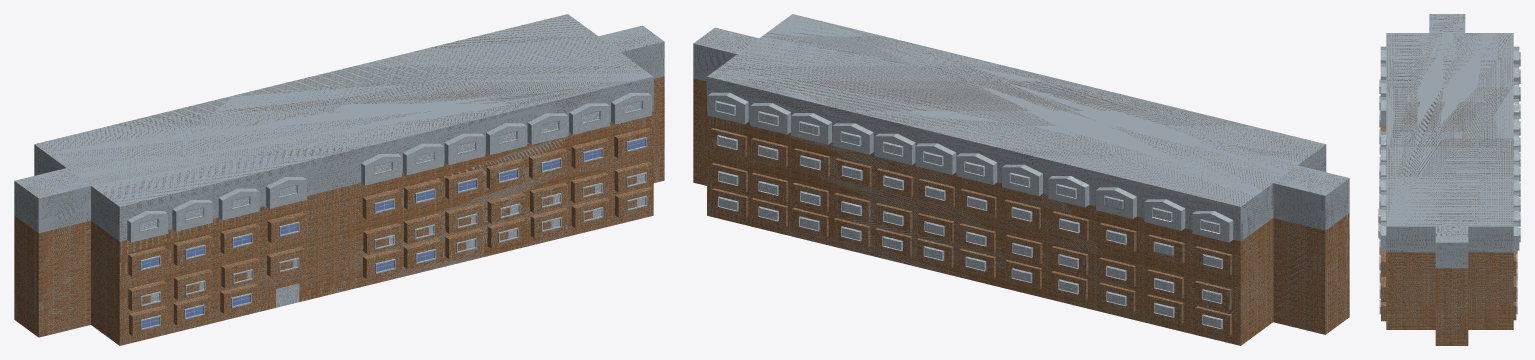
Rendered from Chapman(Textures).fbx.
The picture shows the model from 3 angles, left to right: view 1: azimuth 30°, elevation 25°; view 2: azimuth 150°, elevation 25°; view 3: azimuth 270°, elevation 25°; orthographic projection. The views are drawn at different scales.
Parts seen in each view (by area): view 1: Model; view 2: Model; view 3: Model.
Boxes of the visible parts, x1,y1,x2,y2 form: Model: (14, 14, 664, 345); Model: (693, 14, 1349, 345); Model: (1378, 14, 1520, 345).
Bounding box in the file's own units: 2276 × 480 × 600.
